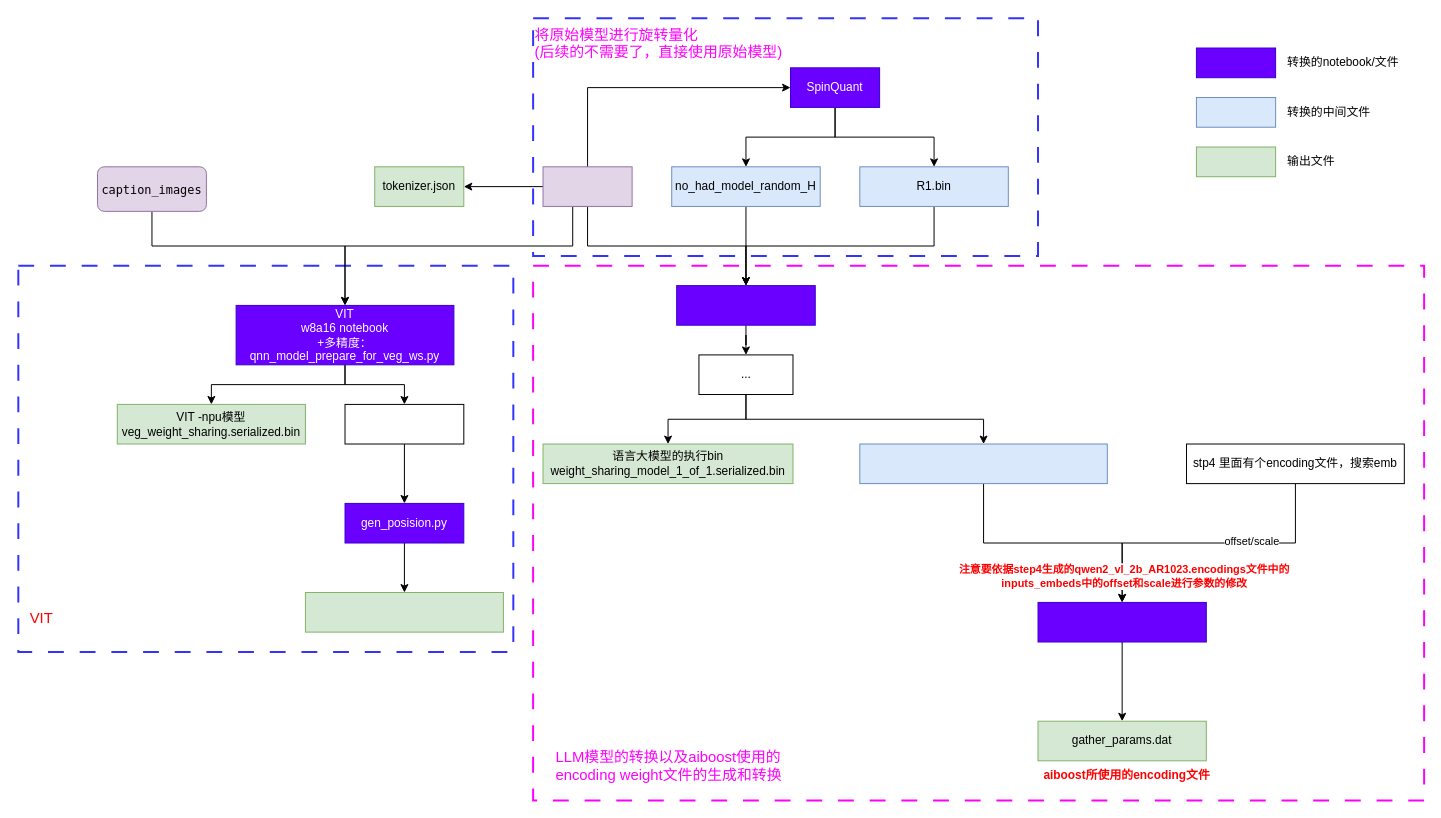
Some shapes in this 1441 by 818 pixel diagram are drawn without their labels. The centre of each missing label's shape, as x and y in pixels:
"embedding_weights_151936x1536.raw" belongs at (983,463).
"fp16的位置编码文件 position_ids_cos_xxxx_u16.raw position_ids_sin_xxxx_u16.raw" belongs at (403,612).
"gen_gather_bin_22.py" belongs at (1121,621).
"HuggingFace qwen2vl-2b" belongs at (587,186).
"LLM_sq_adaptive_mask" belongs at (745,305).
"out dir" belongs at (404,423).
